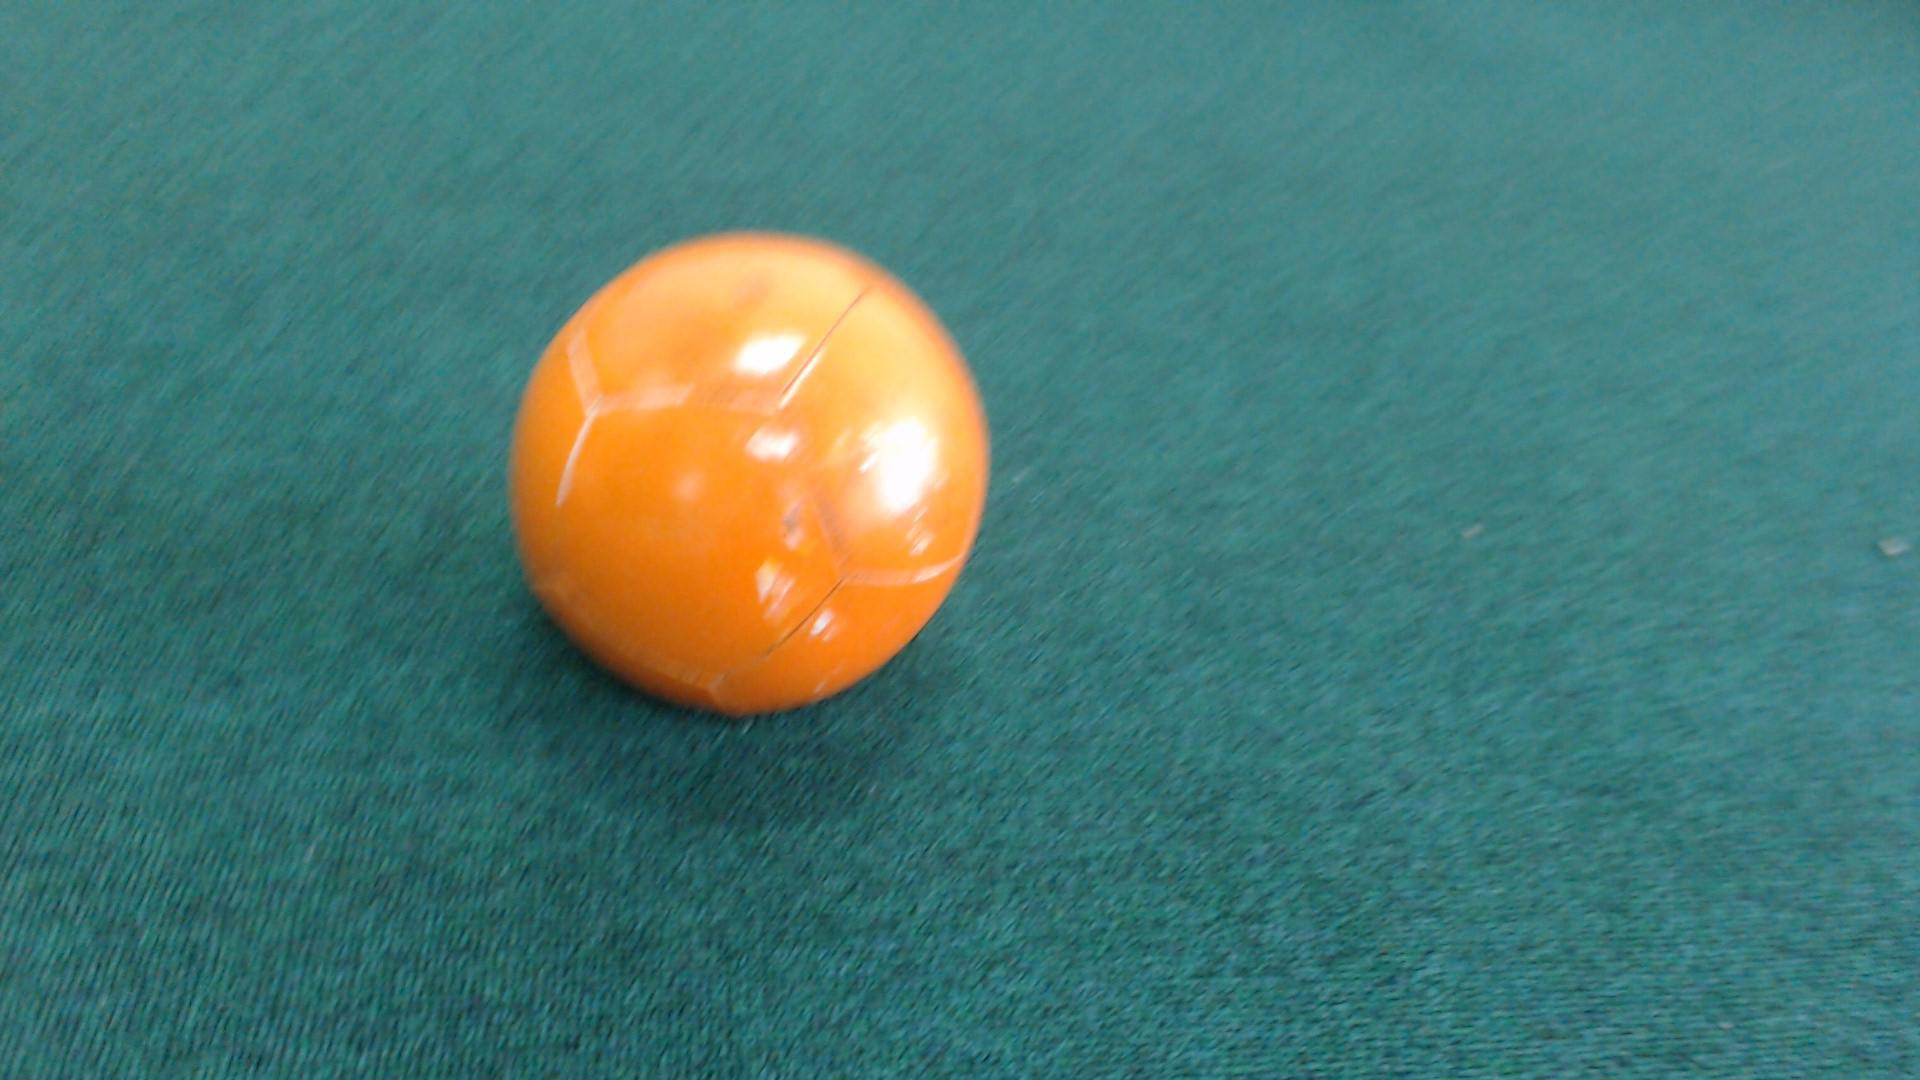bola: (488, 208, 1030, 775)
